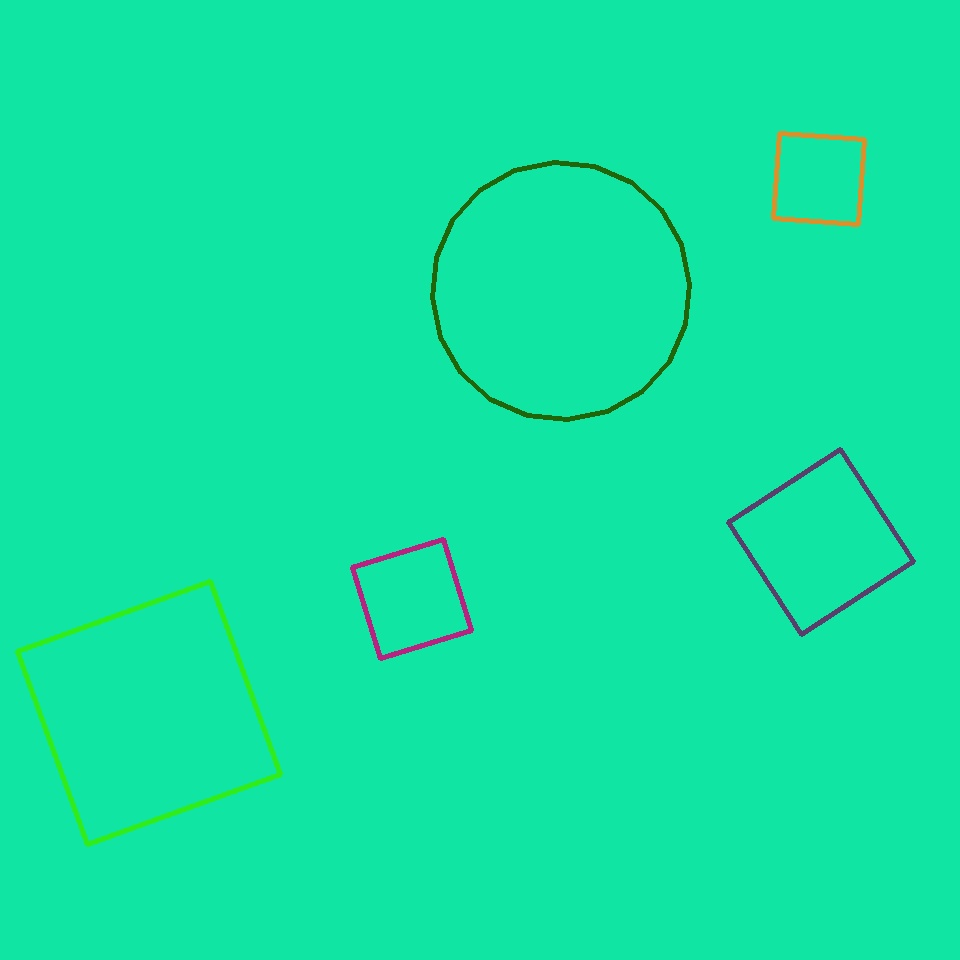square: (17, 582, 281, 844), (728, 450, 914, 634), (352, 539, 471, 658), (774, 134, 864, 224)
triangle: (432, 162, 690, 420)
